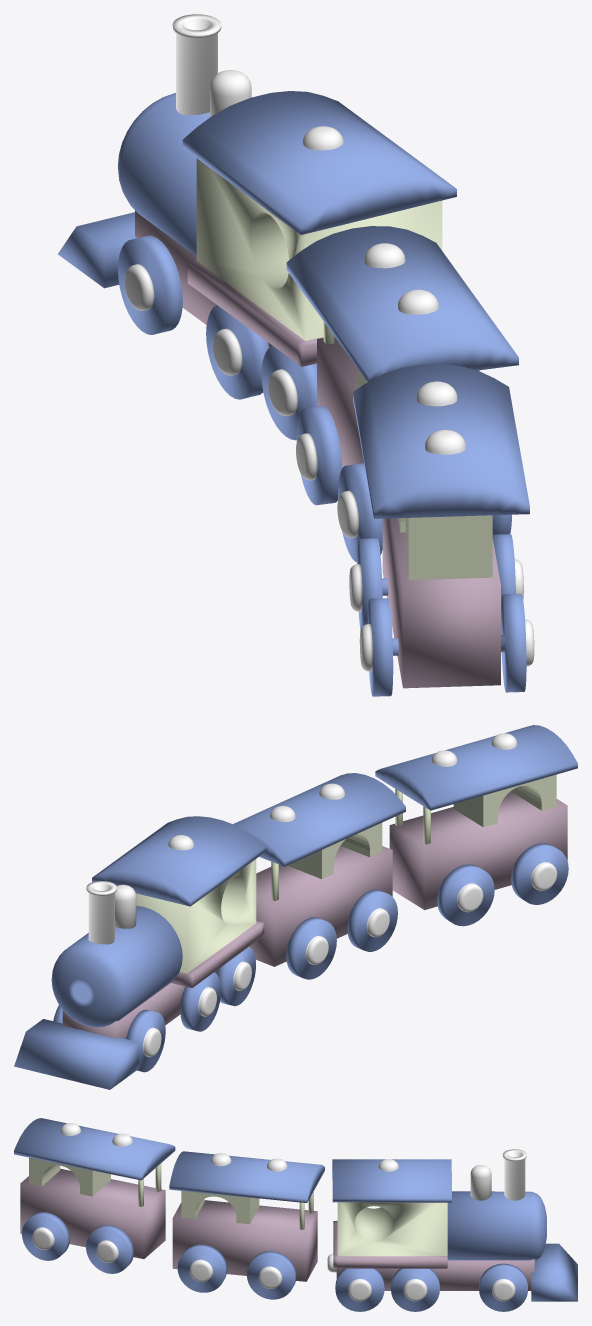
The model's file is choochooTrain.glb.
3 renders of one model, top to bottom at view 1: azimuth 30°, elevation 25°; view 2: azimuth 150°, elevation 25°; view 3: azimuth 270°, elevation 25°, orthographic. The views are drawn at different scales.
Visible parts, largest first — view 1: Head; view 2: Head; view 3: Head.
Boxes of the visible parts, x1,y1,x2,y2 form: Head: (58, 14, 534, 696); Head: (14, 725, 577, 1089); Head: (14, 1118, 577, 1311).
Size of the model in its own units: 8.67 by 6.36 by 22.99.
